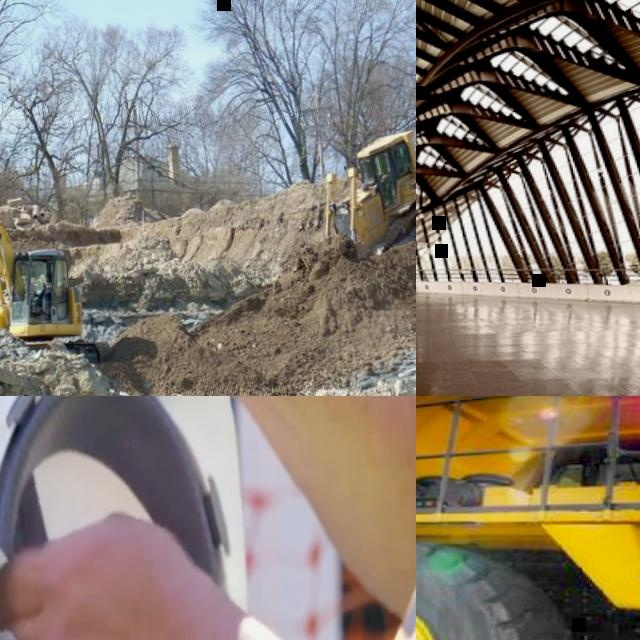Hardhat: (0, 396, 248, 640)
Person: (0, 396, 416, 640), (383, 147, 408, 178)
machinery: (416, 396, 640, 640), (0, 166, 110, 362), (321, 128, 416, 255)
